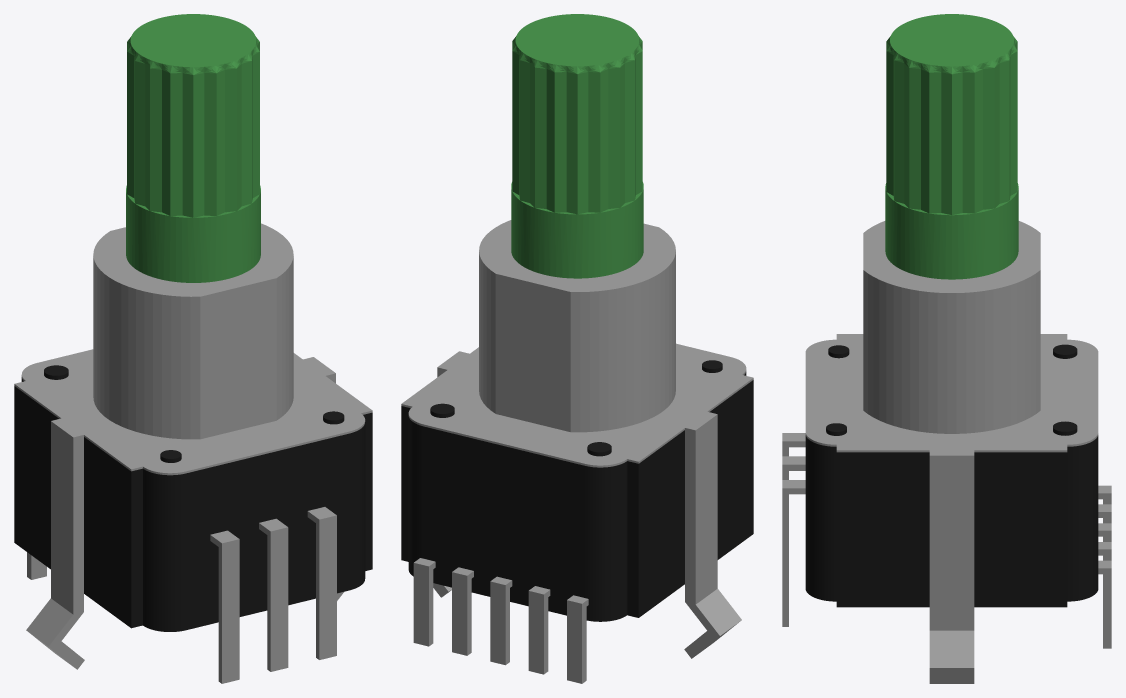
The model's file is rgb-encoder.glb.
3 views of the same model, side by side, from view 1: azimuth 30°, elevation 25°; view 2: azimuth 150°, elevation 25°; view 3: azimuth 270°, elevation 25° (orthographic).
Visible parts, largest first — view 1: RGB encoder.step; view 2: RGB encoder.step; view 3: RGB encoder.step.
Part boxes in pixels (<box>): RGB encoder.step: <box>14,14,372,683</box>; RGB encoder.step: <box>401,14,753,683</box>; RGB encoder.step: <box>782,14,1111,683</box>.
Bounding box in the file's own units: 16.05 × 28.96 × 14.85.
